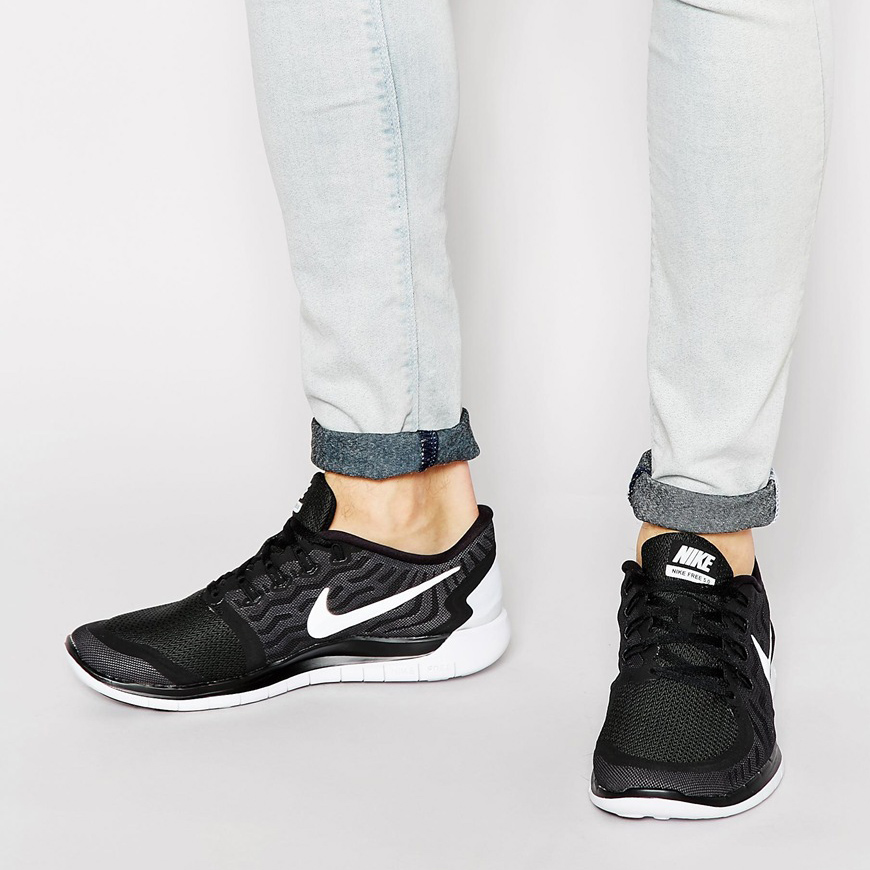Nike: (305, 562, 465, 644)
